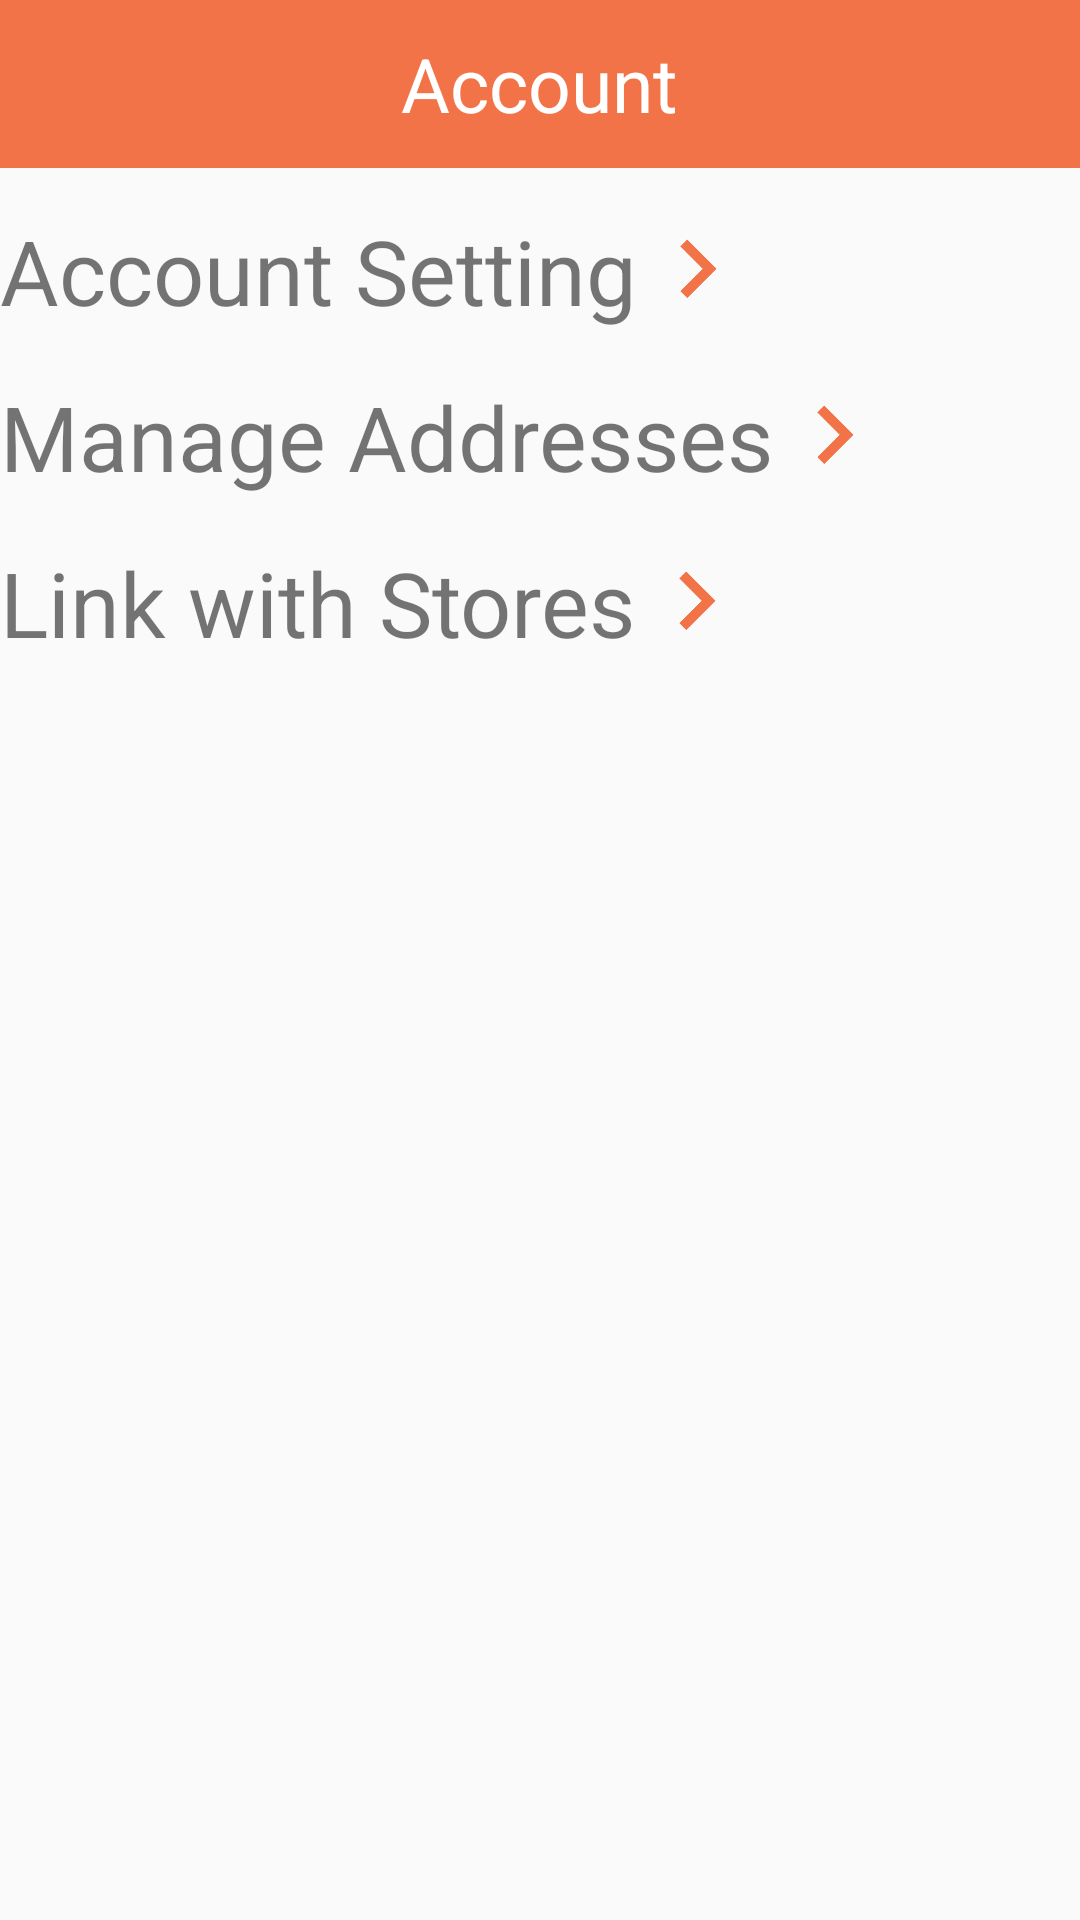

Named icons in this screenshot (1080 × 1920) and their centers, (x,y):
right arrow: (698,269), (835,435), (697,601)
